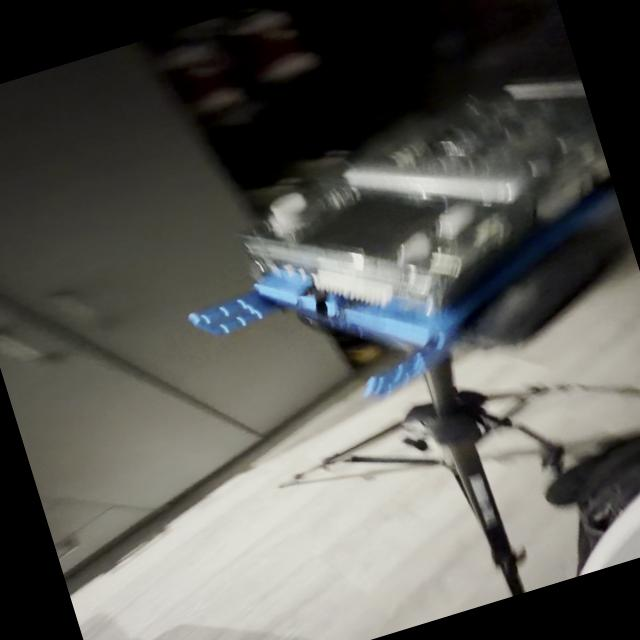mbot-detection: (129, 41, 640, 453)
